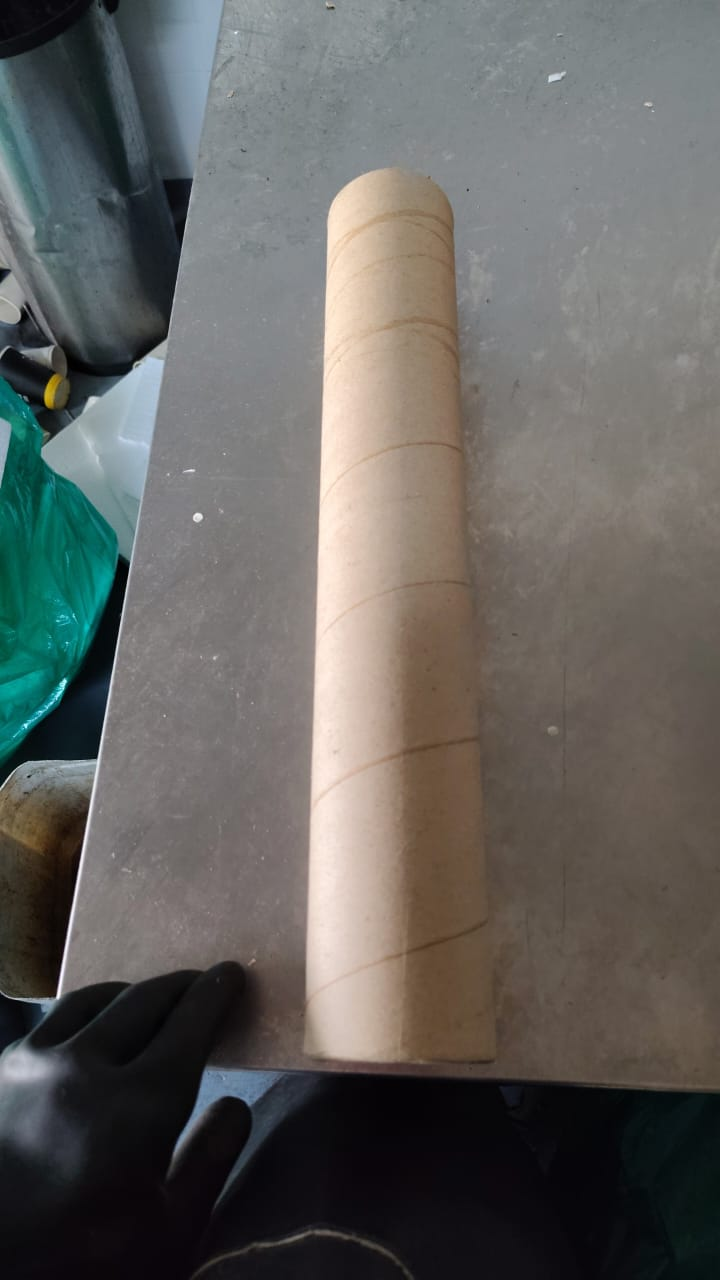Carton: (303, 164, 491, 1068)
